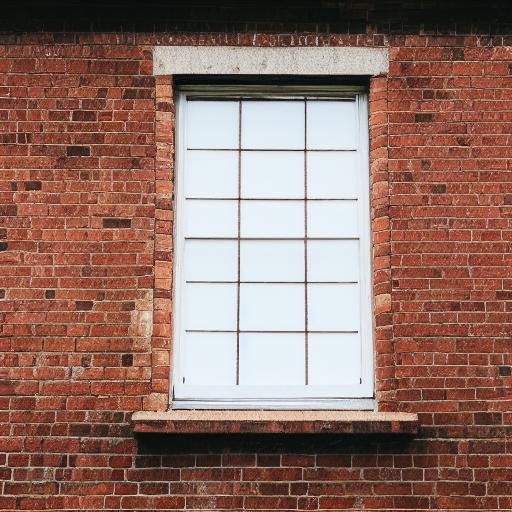Window: (130, 38, 423, 442)
